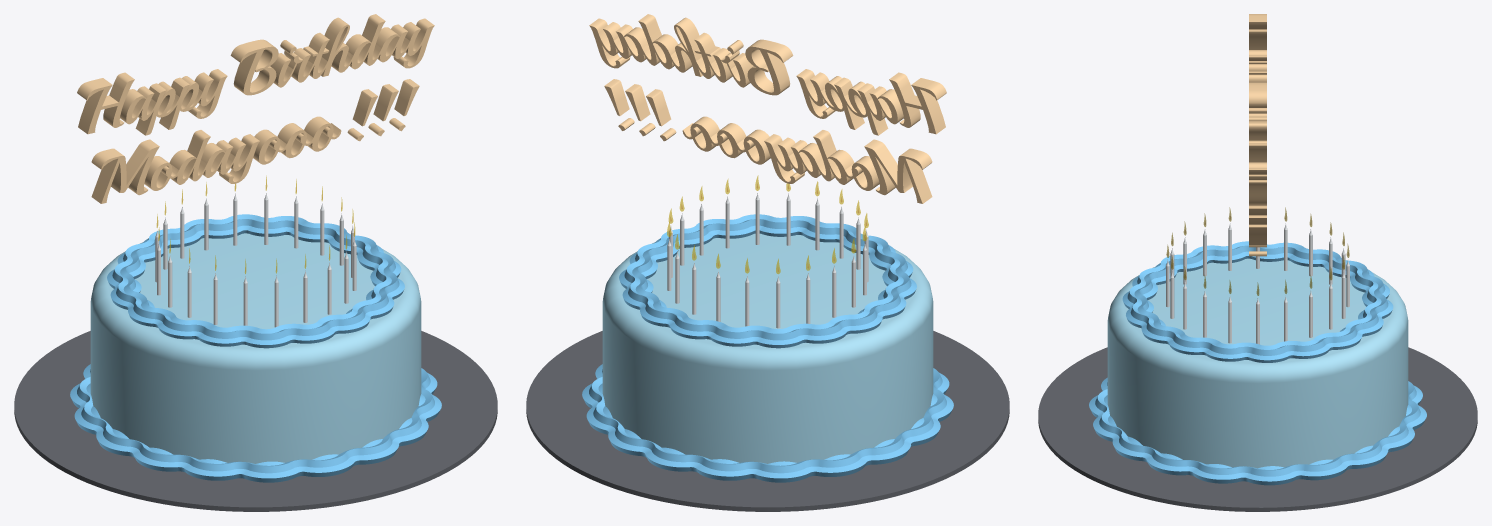
File: animated_card.glb
3 views of the same model, side by side, from view 1: azimuth 30°, elevation 25°; view 2: azimuth 150°, elevation 25°; view 3: azimuth 270°, elevation 25° (orthographic). The views are drawn at different scales.
Visible parts, largest first — view 1: Geom3D_ (×6), Geom3D (×2); view 2: Geom3D_ (×6), Geom3D (×2); view 3: Geom3D_ (×5), Geom3D (×2).
Part boxes in pixels (x1,y1,x2,y2): Geom3D_ (×6): [14, 14, 497, 511]; Geom3D (×2): [70, 214, 441, 482]; Geom3D_ (×6): [526, 14, 1009, 511]; Geom3D (×2): [582, 214, 953, 482]; Geom3D_ (×5): [1038, 14, 1477, 511]; Geom3D (×2): [1089, 241, 1426, 485].
Bounding box in the file's own units: 0.3718 × 0.3117 × 0.3718.
